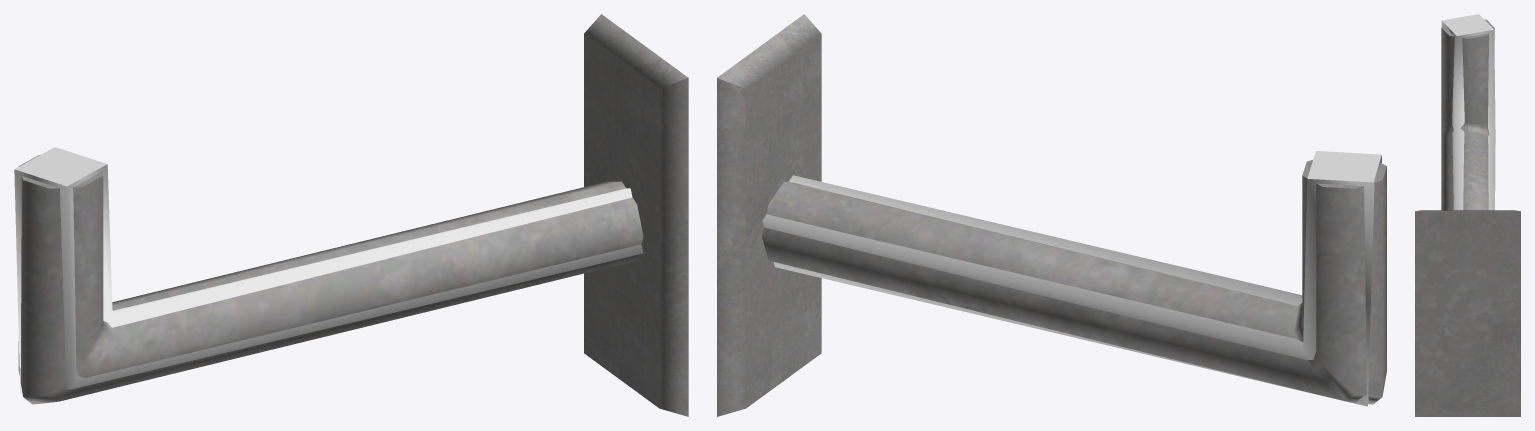
File: s_camera_elbow.dae
3 views of the same model, side by side, from view 1: azimuth 30°, elevation 25°; view 2: azimuth 150°, elevation 25°; view 3: azimuth 270°, elevation 25° (orthographic). The views are drawn at different scales.
Visible parts, largest first — view 1: s_camera_elbow_a100, s_camera_elbow_a030; view 2: s_camera_elbow_a100, s_camera_elbow_a030; view 3: s_camera_elbow_a100, s_camera_elbow_a030.
Boxes of the visible parts, box(x1,y1,x2,y2) form: s_camera_elbow_a100: box(18, 14, 688, 416); s_camera_elbow_a030: box(14, 147, 643, 393); s_camera_elbow_a100: box(717, 14, 1386, 416); s_camera_elbow_a030: box(762, 151, 1381, 406); s_camera_elbow_a100: box(1415, 19, 1520, 416); s_camera_elbow_a030: box(1441, 14, 1495, 210).
Size of the model in its own units: 0.5206 by 0.1264 by 0.2887.
